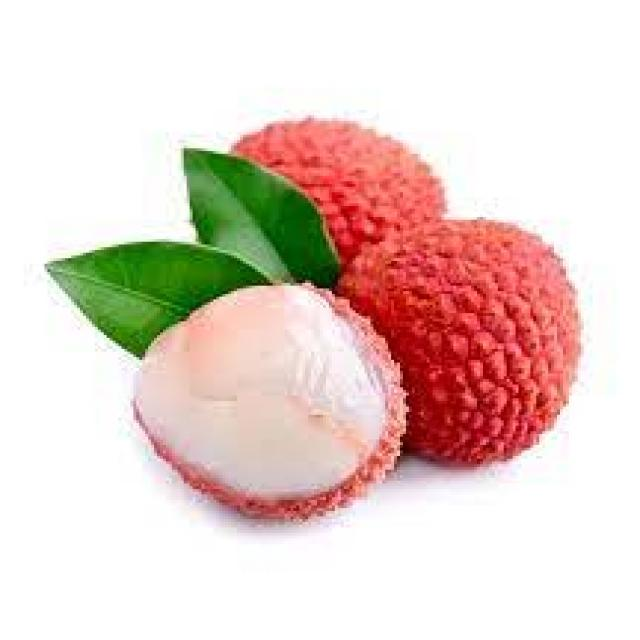lychee: (111, 115, 584, 512)
